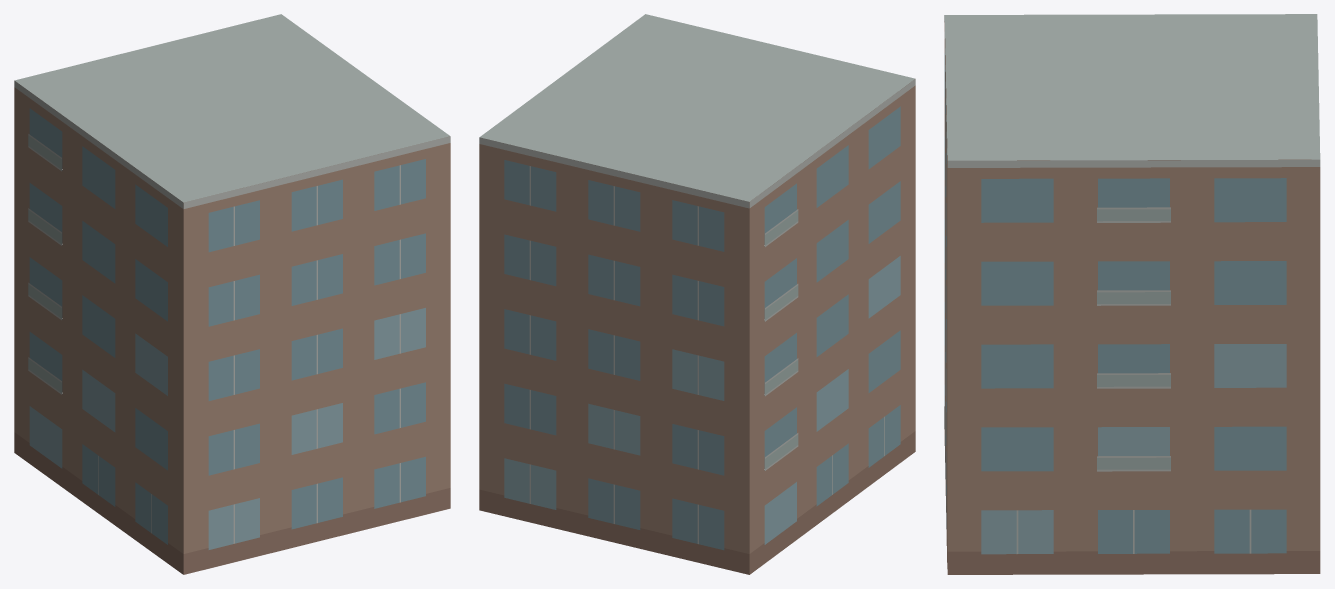
Rendered from survey-upis-32633617.glb.
3 views of the same model, side by side, from view 1: azimuth 30°, elevation 25°; view 2: azimuth 150°, elevation 25°; view 3: azimuth 270°, elevation 25° (orthographic). The views are drawn at different scales.
Visible parts, largest first — view 1: survey-upis-32633617.tmp; view 2: survey-upis-32633617.tmp; view 3: survey-upis-32633617.tmp.
Boxes of the visible parts, x1,y1,x2,y2 form: survey-upis-32633617.tmp: (14,14,450,574); survey-upis-32633617.tmp: (479,14,915,574); survey-upis-32633617.tmp: (944,14,1320,574).
Size of the model in its own units: 10.44 by 13.7 by 11.27.
